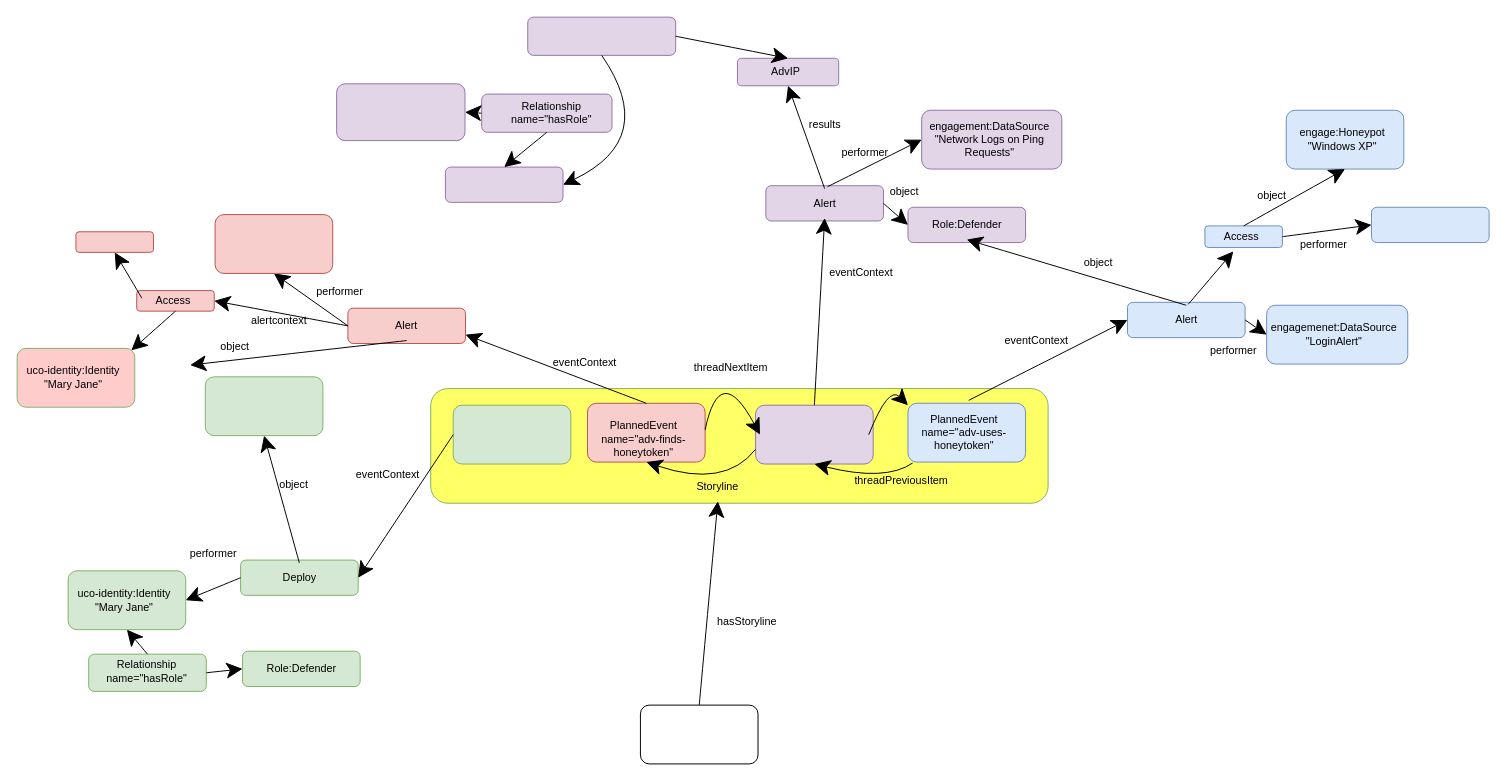
The diagram is 1506 pixels wide and 781 high, and some of its shapes have lost their labels. Here are the shapes that lost their labels. From the top down, the centre of each, then its label:
point 601,35: Relationship name="hasKnownlP"
point 400,112: uco-identity:Identity "Bob Smith"
point 503,184: Role name="Adversary"
point 114,241: File
point 273,243: engage:DataSource "CanaryTokenAlert"
point 1430,224: Role:Adversary
point 263,406: engage:HoneyToken "User Account Credentials"
point 511,434: PlannedEvent name="def-deploy-honeytoken"
point 814,434: PlannedEvent name="adv-scans-honeypot"
point 698,734: Narrative
